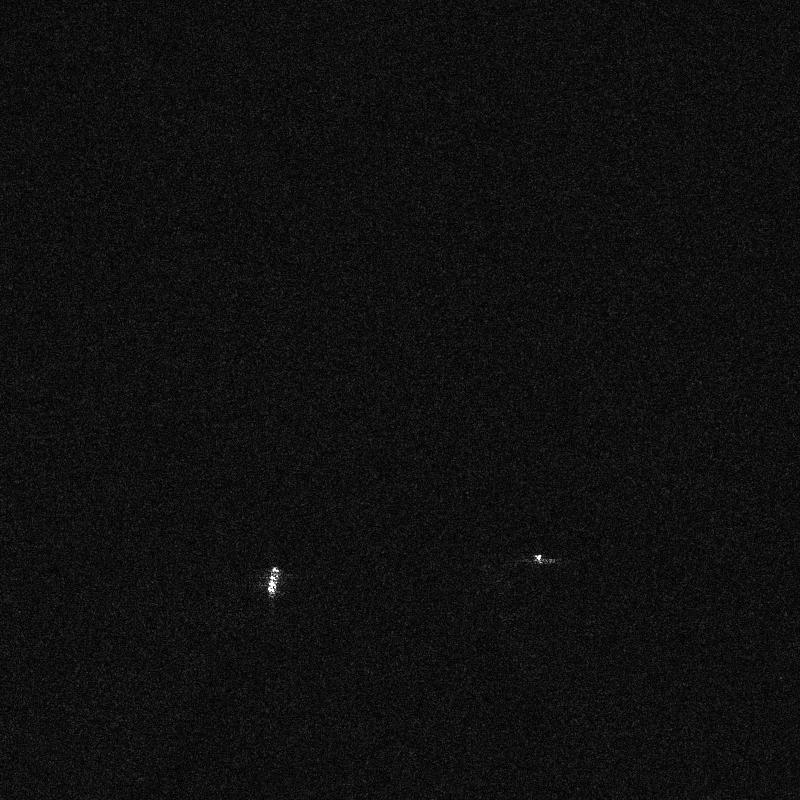ship: (267, 566, 280, 595)
